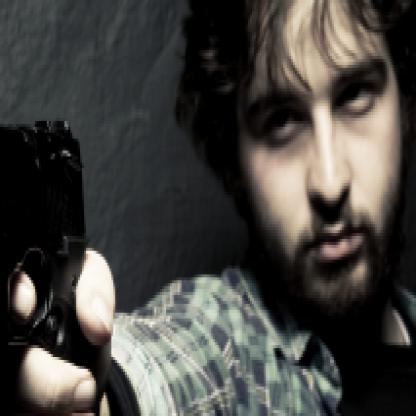gun: (0, 79, 112, 414)
